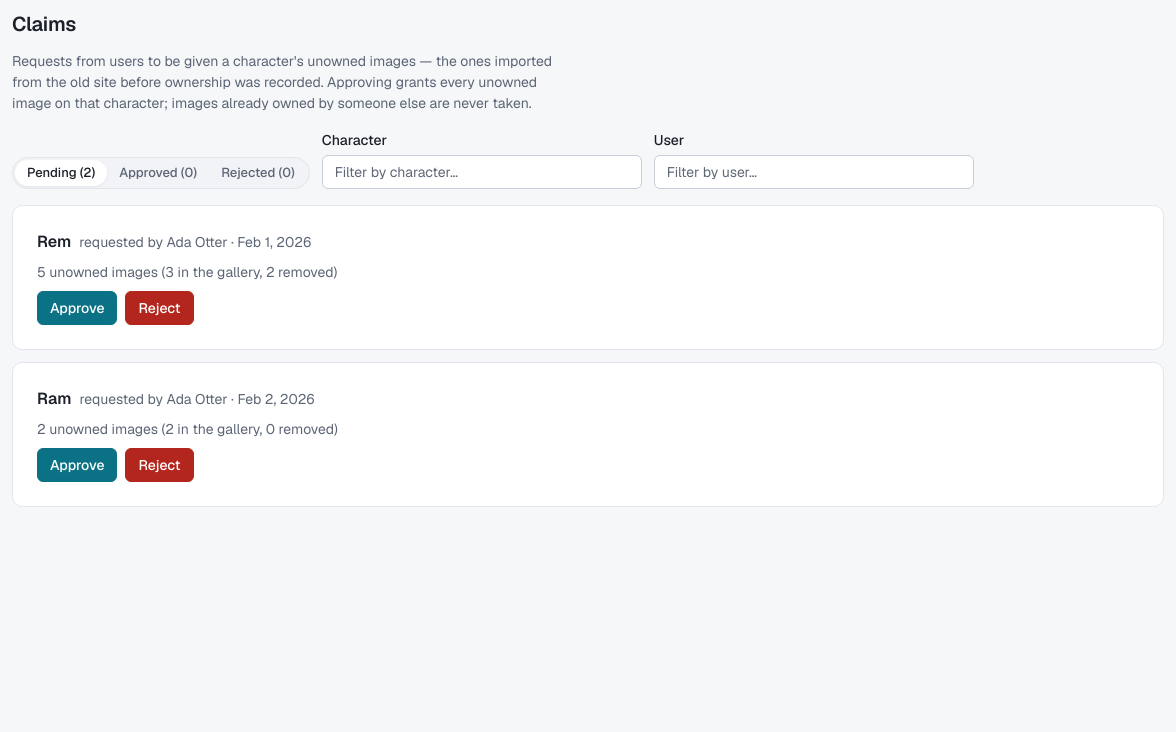
Test: ClaimsPage › hides the bulk approve until a user filter is applied
Check: the link "Rem" is shown, box [37,230,71,254]
Check: the button "approve all" is not shown
Type "Ada Otter" into the field labelled "User".
click(814, 172); type("Ada Otter")  # box [654,155,974,189]
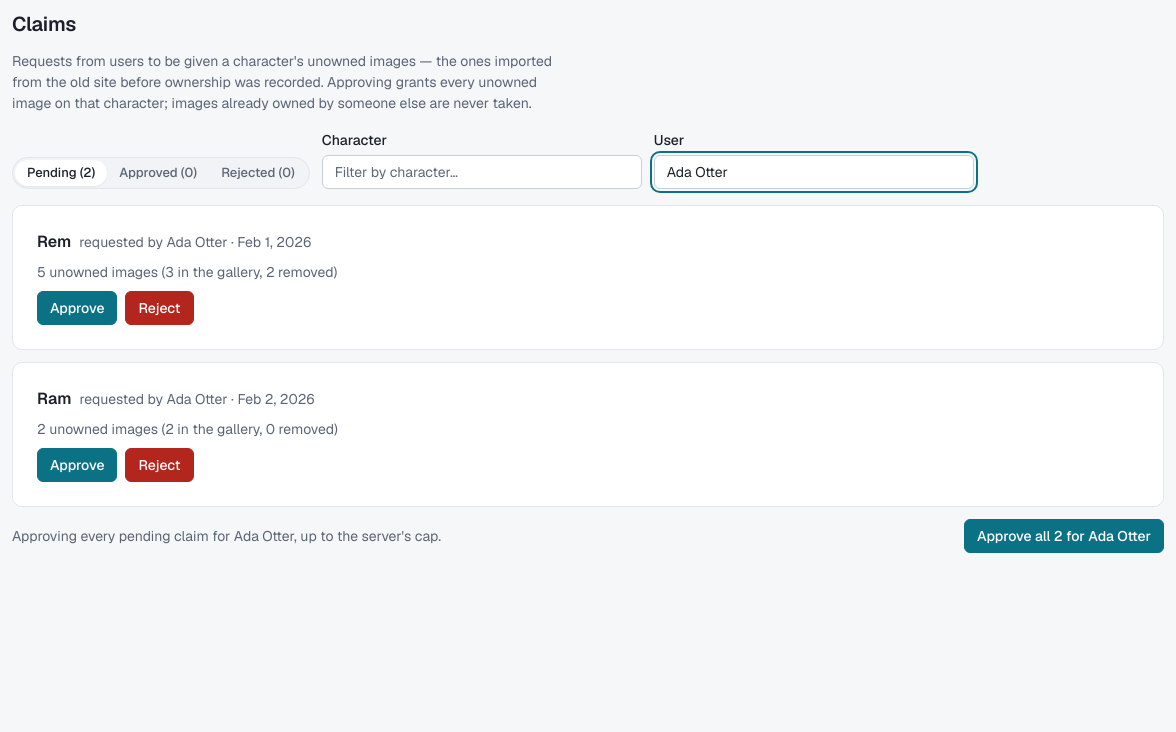
Check: the button "Approve all 2 for Ada Otter" is shown, box [964,519,1164,553]
